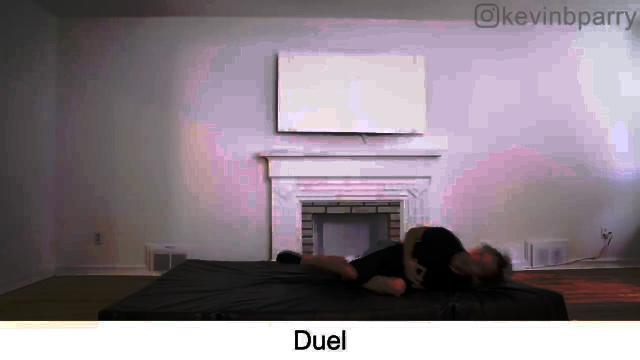jatuh: (268, 215, 510, 309)
